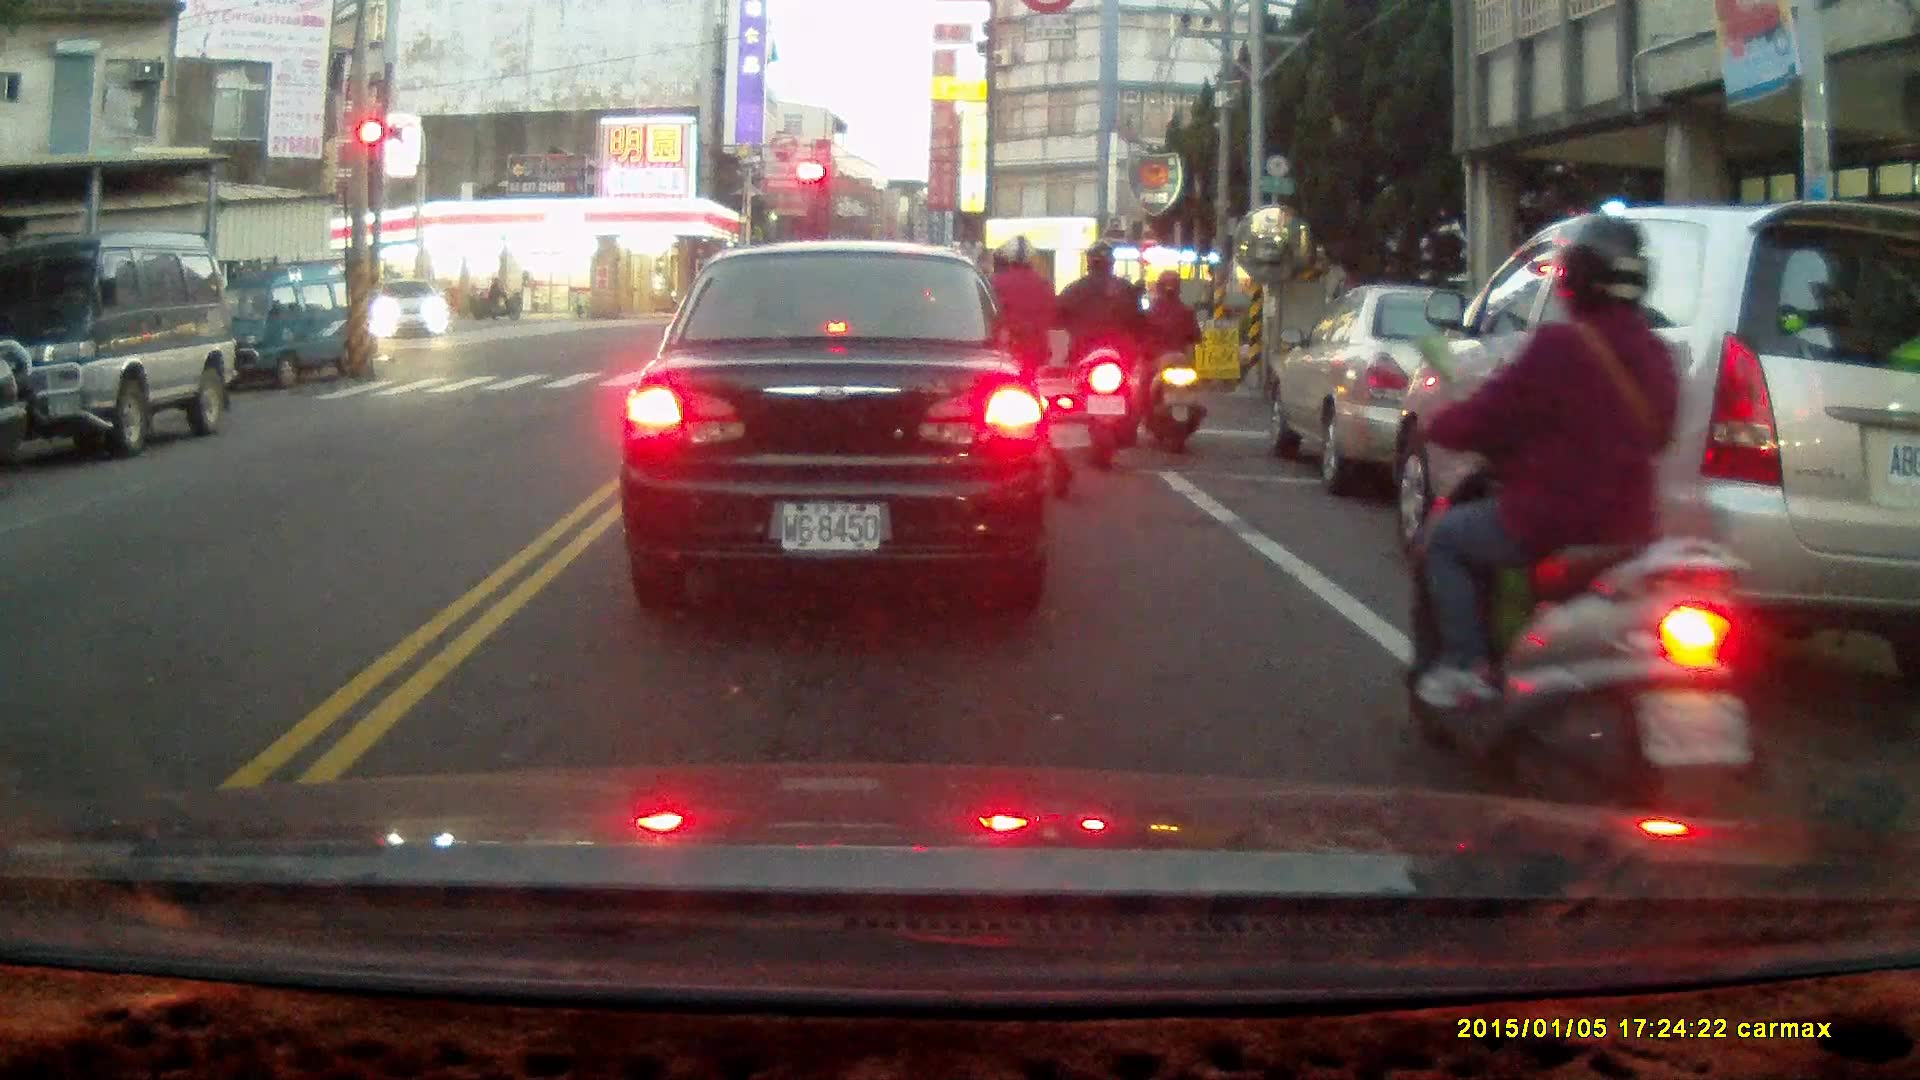rider: (1411, 216, 1774, 863), (966, 235, 1090, 502), (1048, 242, 1141, 468), (1134, 269, 1204, 450), (474, 279, 520, 322)
vehicle: (1377, 197, 1920, 688), (617, 243, 1061, 606), (1266, 285, 1568, 499), (1, 234, 239, 458), (194, 255, 381, 393), (372, 277, 451, 343)
